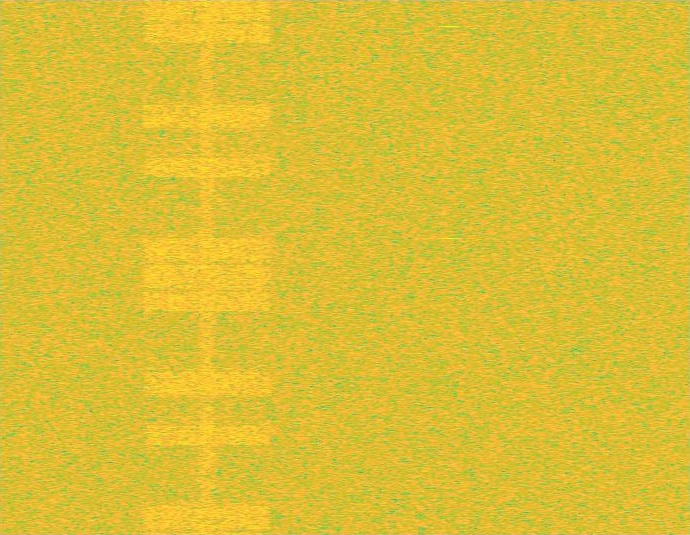DSSS: (198, 0, 216, 534)
LTE: (138, 0, 276, 534)
Radar: (443, 0, 457, 534)
